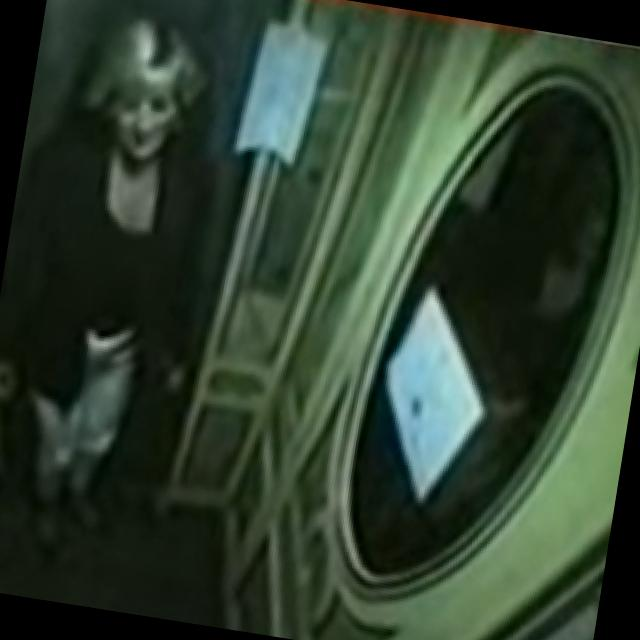person: (0, 0, 247, 563)
